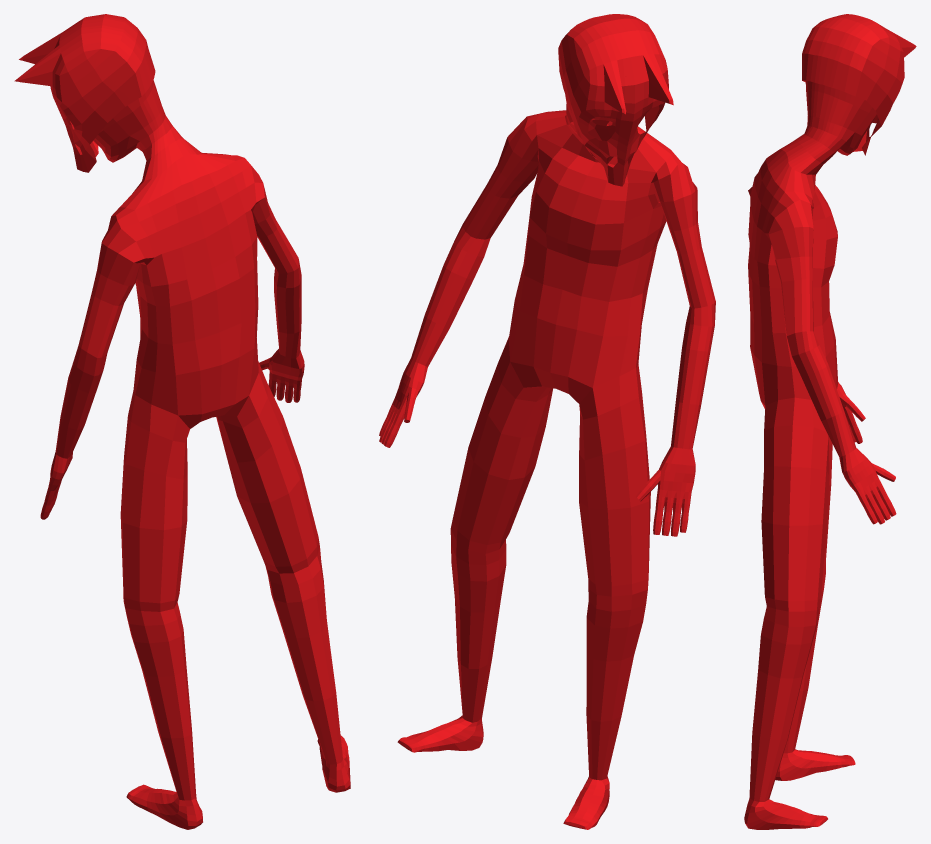
Rendered from reposoE_000271.obj.
The picture shows the model from 3 angles, left to right: view 1: azimuth 30°, elevation 25°; view 2: azimuth 150°, elevation 25°; view 3: azimuth 270°, elevation 25°; orthographic projection. The views are drawn at different scales.
Parts seen in each view (by area): view 1: Plane.002_Plane.001; view 2: Plane.002_Plane.001; view 3: Plane.002_Plane.001.
Part boxes in pixels (x1,y1,x2,y2): Plane.002_Plane.001: (14, 14, 350, 829); Plane.002_Plane.001: (379, 14, 715, 829); Plane.002_Plane.001: (744, 14, 916, 829).
Bounding box in the file's own units: 2.76 × 7.04 × 1.5.
